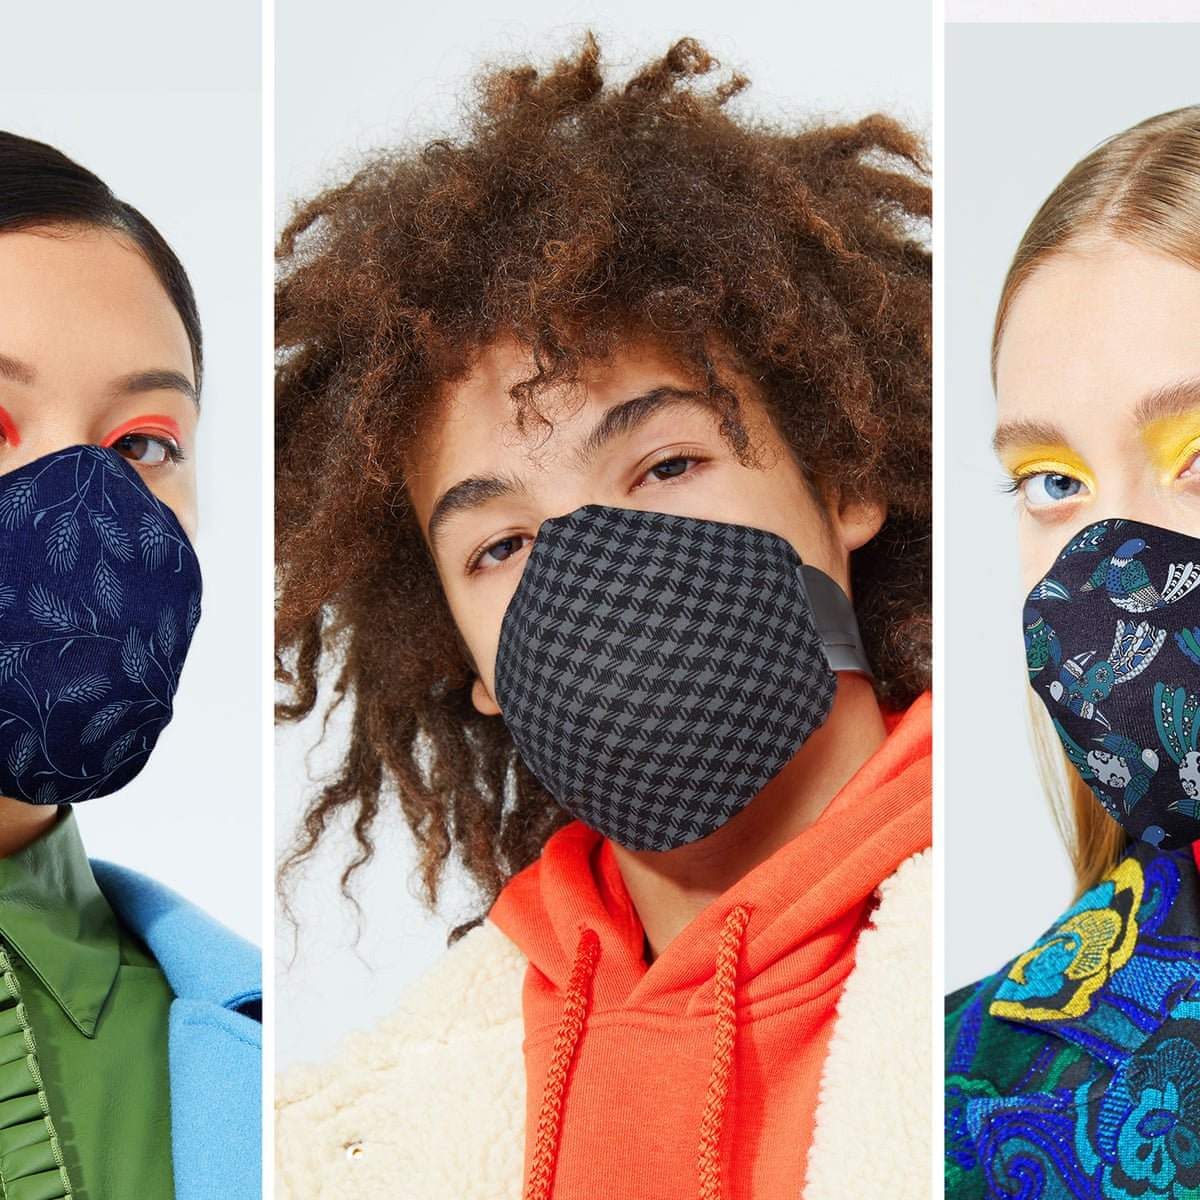mask: (292, 106, 908, 899), (977, 77, 1200, 933), (1, 108, 226, 867)
